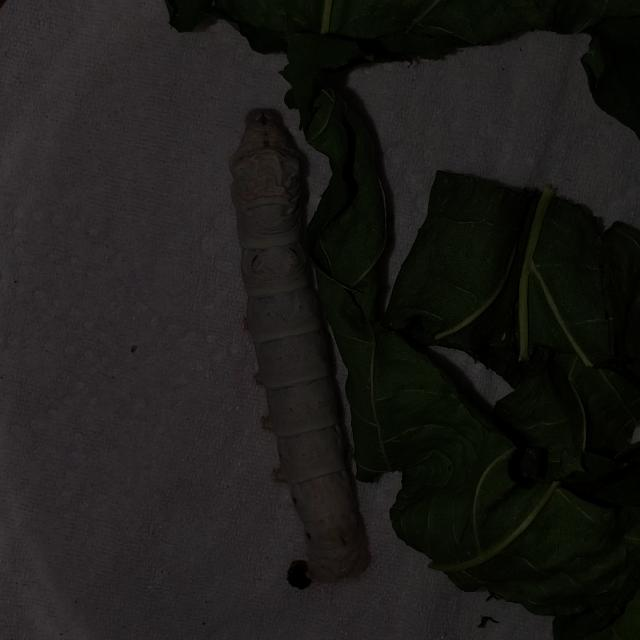Healthy: (188, 70, 440, 605)
